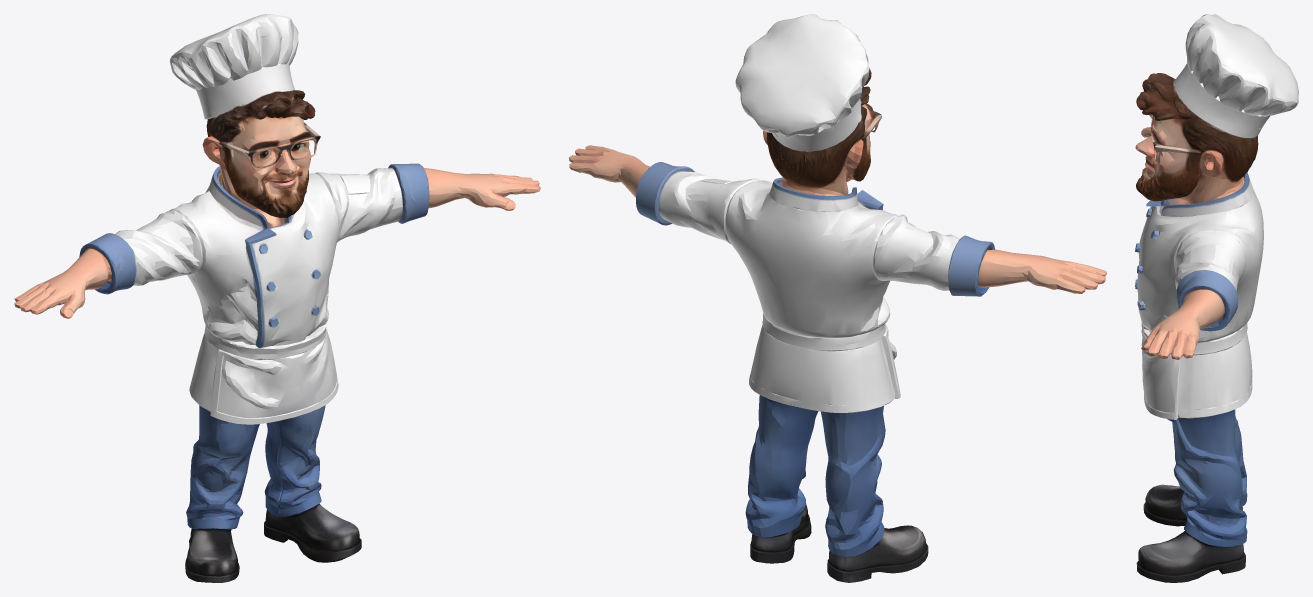
File: chef.glb
The picture shows the model from 3 angles, left to right: view 1: azimuth 30°, elevation 25°; view 2: azimuth 150°, elevation 25°; view 3: azimuth 270°, elevation 25°; orthographic projection. The views are drawn at different scales.
Visible parts, largest first — view 1: model; view 2: model; view 3: model.
Part boxes in pixels (x1,y1,x2,y2): model: (14,14,540,582); model: (569,14,1106,582); model: (1135,14,1298,582).
Bounding box in the file's own units: 1.9 × 1.87 × 0.5261.
1 material, 1 textured.
